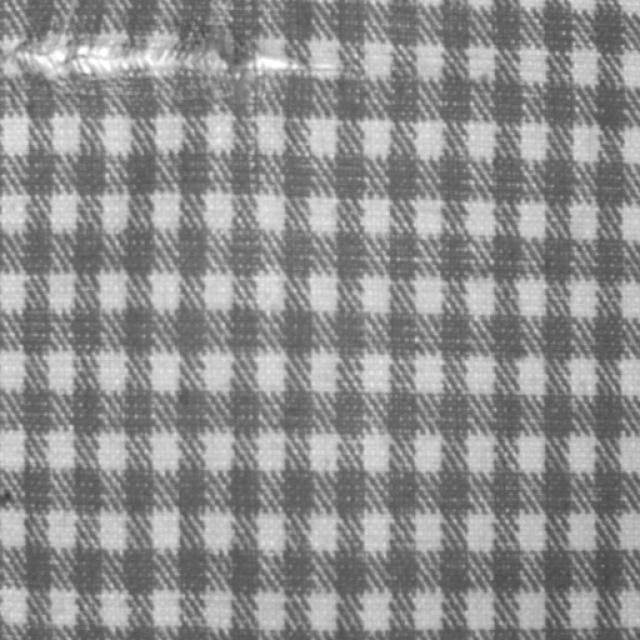Hole-Defect: (15, 40, 228, 76), (236, 55, 339, 78)
